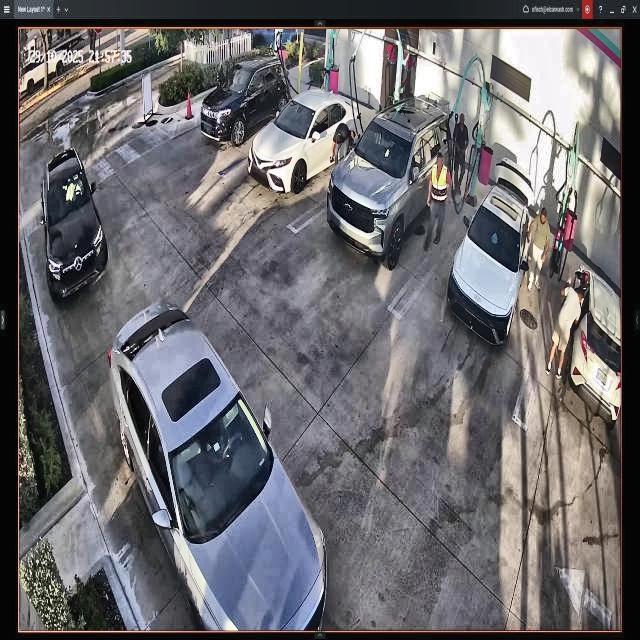Car: (109, 296, 327, 633), (325, 96, 452, 268), (449, 166, 532, 344), (247, 90, 361, 192), (201, 58, 291, 146)
